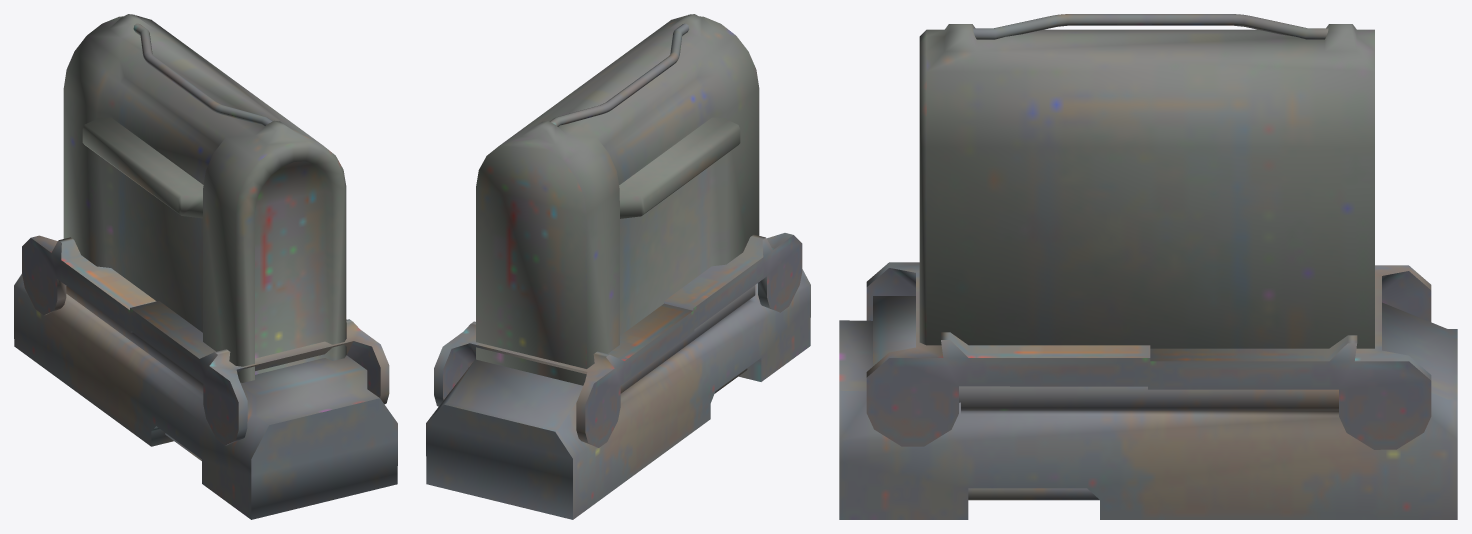
The model's file is mag2.obj.
3 renders of one model, left to right at view 1: azimuth 30°, elevation 25°; view 2: azimuth 150°, elevation 25°; view 3: azimuth 270°, elevation 25°, orthographic. The views are drawn at different scales.
Visible parts, largest first — view 1: mag2; view 2: mag2; view 3: mag2.
Part boxes in pixels (<box>): mag2: <box>14,14,397,519</box>; mag2: <box>426,14,810,519</box>; mag2: <box>839,14,1457,519</box>.
Size of the model in its own units: 8.2 by 17.9 by 22.35.
